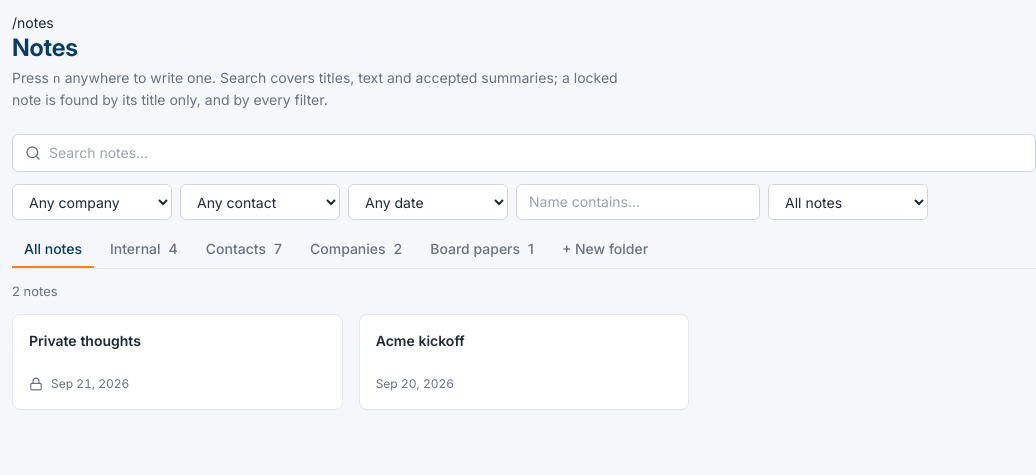
folders (2026-10-12) › adds a folder and opens it
Click the button "+ New folder" at x=605, y=250, box top-left (550, 232), bottom-right (660, 268)
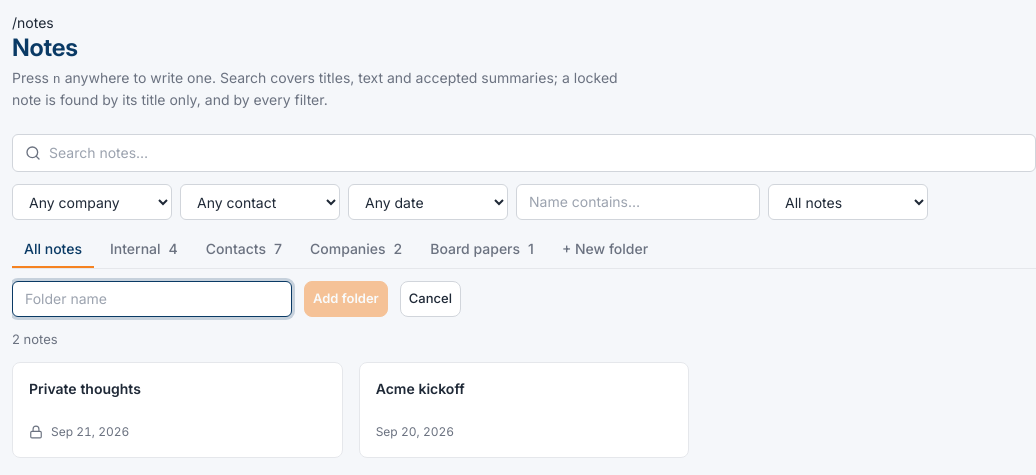
Type "Clients A to M" into the field named "The new folder's name" at x=152, y=298, box top-left (12, 280), bottom-right (292, 316)
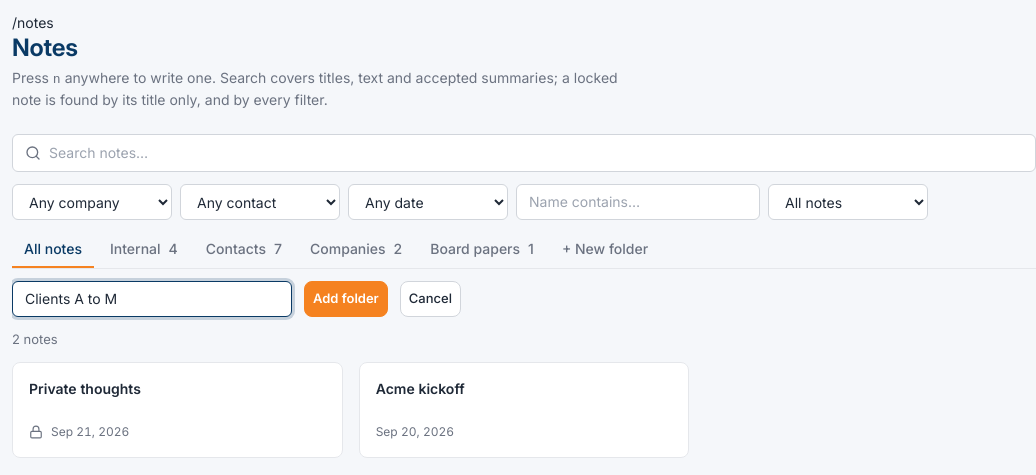
Click the button "Add folder" at x=346, y=298, box top-left (304, 280), bottom-right (388, 316)
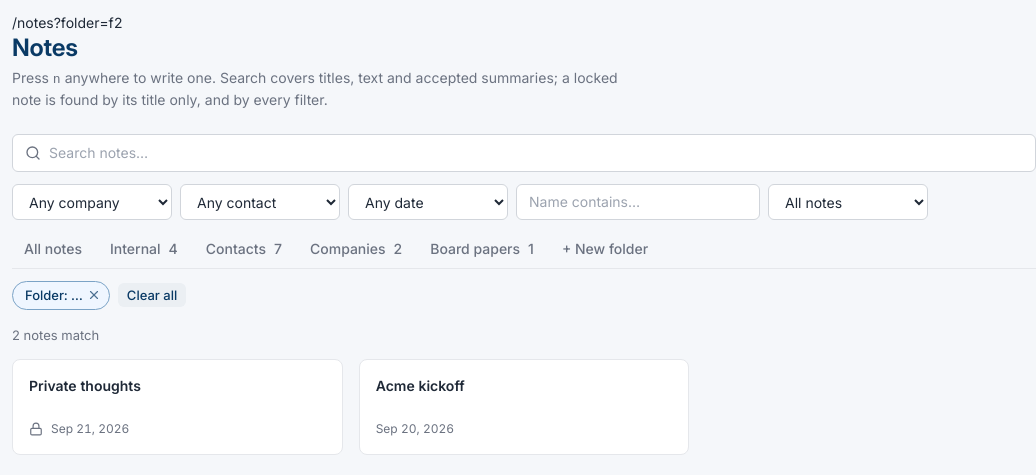
Result: the text named "address" reads "/notes?folder=f2" at top-left (12, 14), bottom-right (123, 31)
